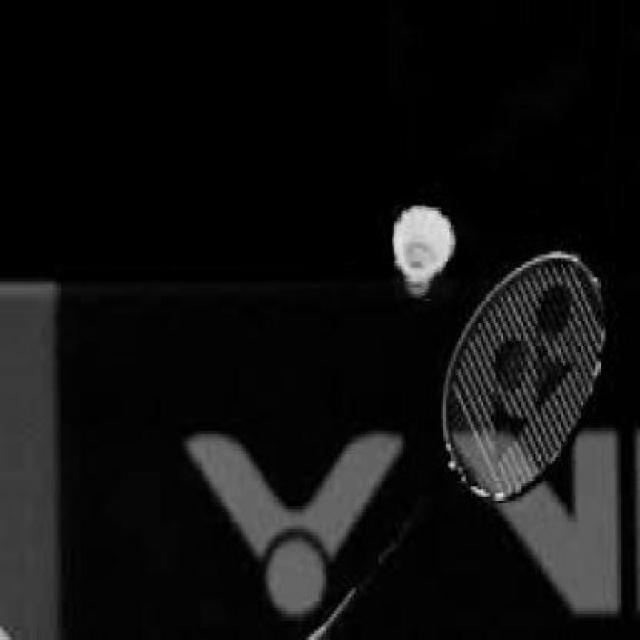Shuttlecock: (393, 204, 451, 296)
